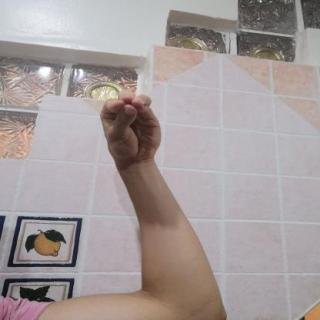HA: (83, 79, 179, 172)
